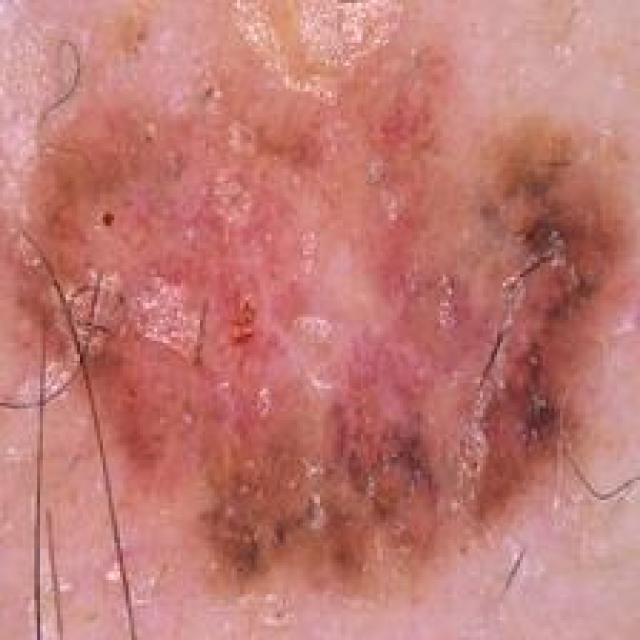Cancer: (1, 0, 638, 614)
